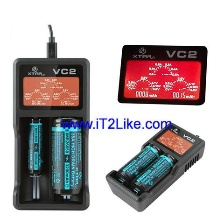battery: (46, 116, 85, 197), (129, 150, 178, 196), (115, 139, 163, 185), (25, 118, 45, 177)
